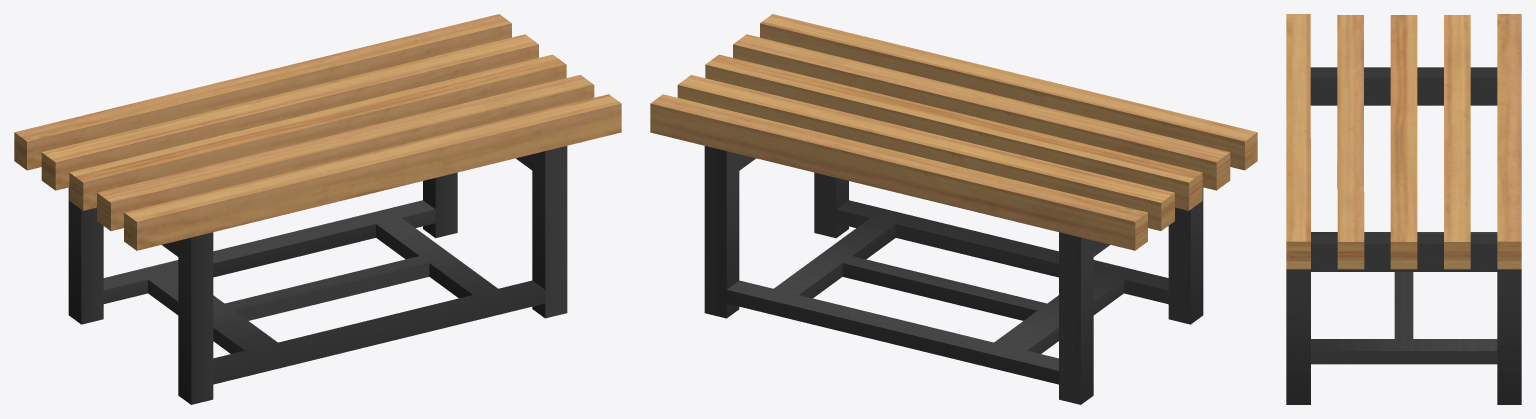
Rendered from bench.gltf.
3 views of the same model, side by side, from view 1: azimuth 30°, elevation 25°; view 2: azimuth 150°, elevation 25°; view 3: azimuth 270°, elevation 25° (orthographic). The views are drawn at different scales.
Parts seen in each view (by area): view 1: Object001, Box002; view 2: Object001, Box002; view 3: Object001, Box002.
Part boxes in pixels (<box>): Object001: <box>14,14,621,250</box>; Box002: <box>68,146,567,404</box>; Object001: <box>650,14,1257,250</box>; Box002: <box>704,146,1203,404</box>; Object001: <box>1286,14,1521,269</box>; Box002: <box>1286,67,1521,404</box>.
Bounding box in the file's own units: 2.79 × 1.08 × 1.22.
Materials: 1 (1 with a texture image).
